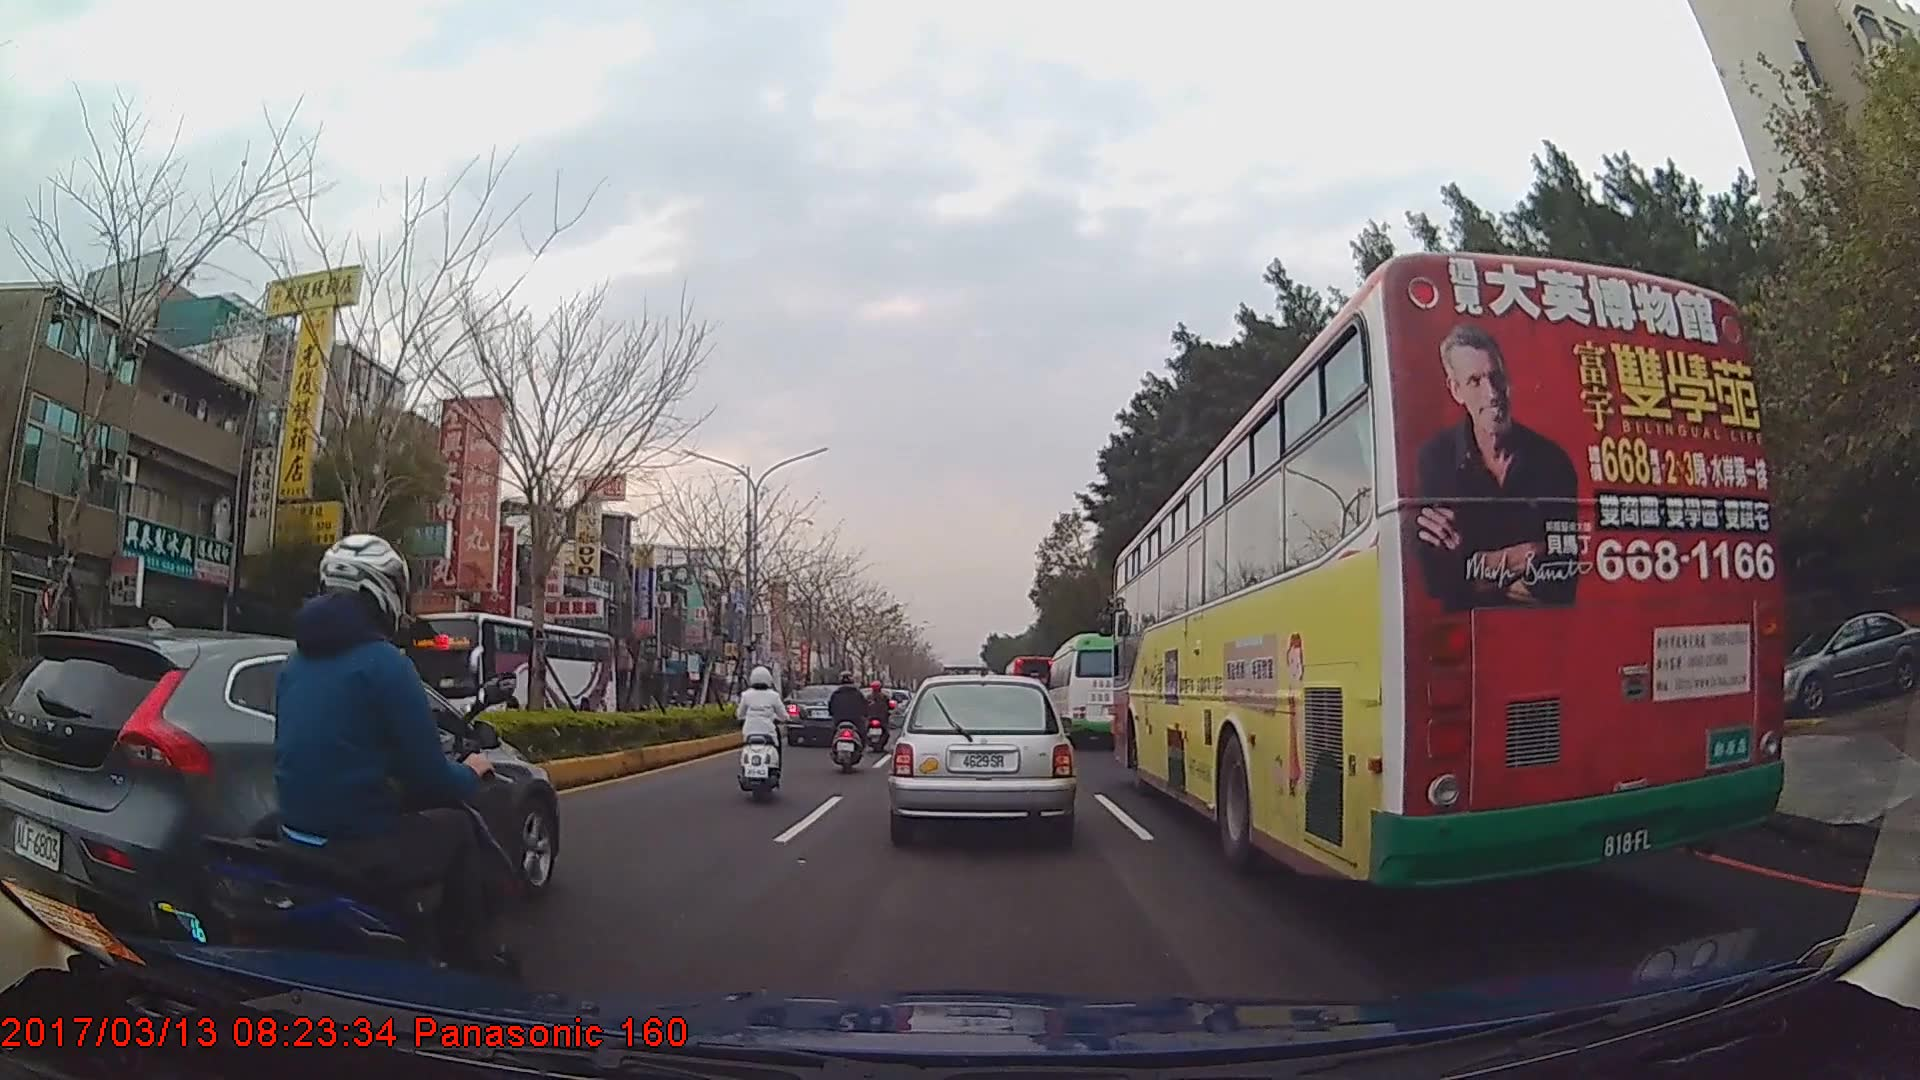rider: (178, 529, 517, 1028), (731, 662, 790, 801), (826, 673, 874, 764), (864, 679, 892, 748)
vehicle: (1108, 247, 1787, 893), (2, 626, 570, 966), (891, 671, 1074, 841), (411, 610, 617, 752), (1758, 607, 1920, 713), (1044, 630, 1143, 748), (788, 681, 870, 747), (1000, 651, 1057, 725)
